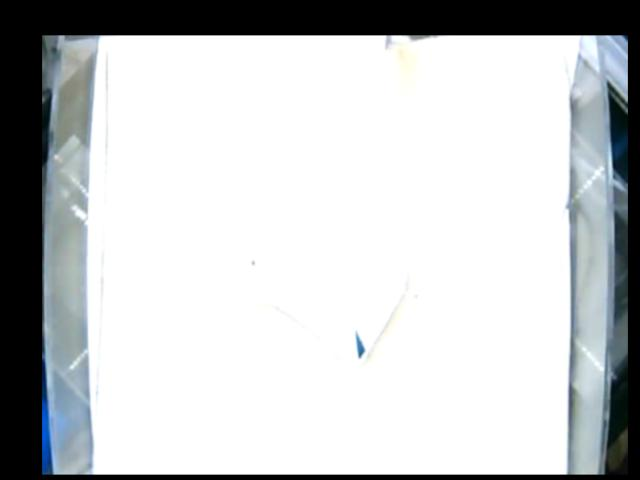China: (252, 255, 408, 364)
